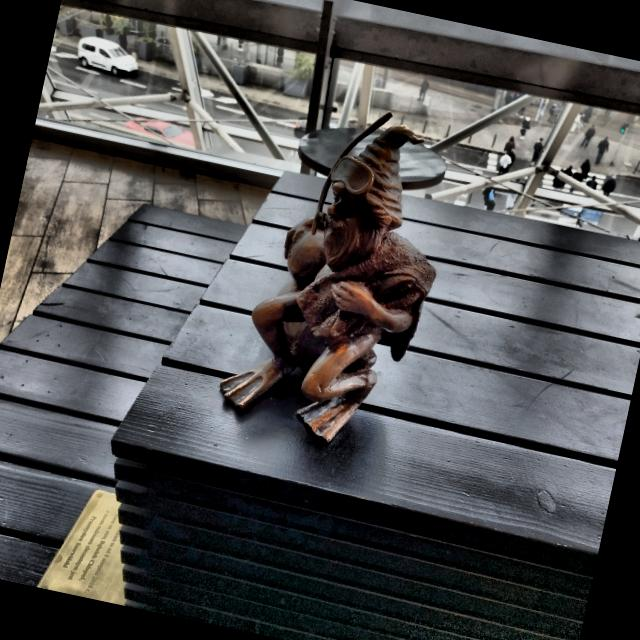Babelek_Chlaptus: (219, 112, 435, 441)
